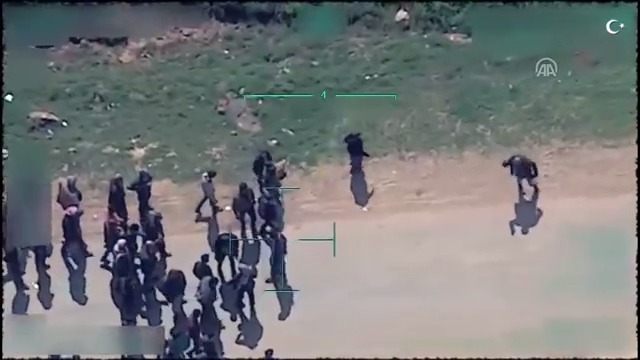insan: (502, 142, 555, 204), (335, 127, 377, 187), (189, 163, 226, 222), (212, 226, 243, 286), (231, 182, 262, 234), (129, 161, 156, 215), (106, 170, 128, 224)
